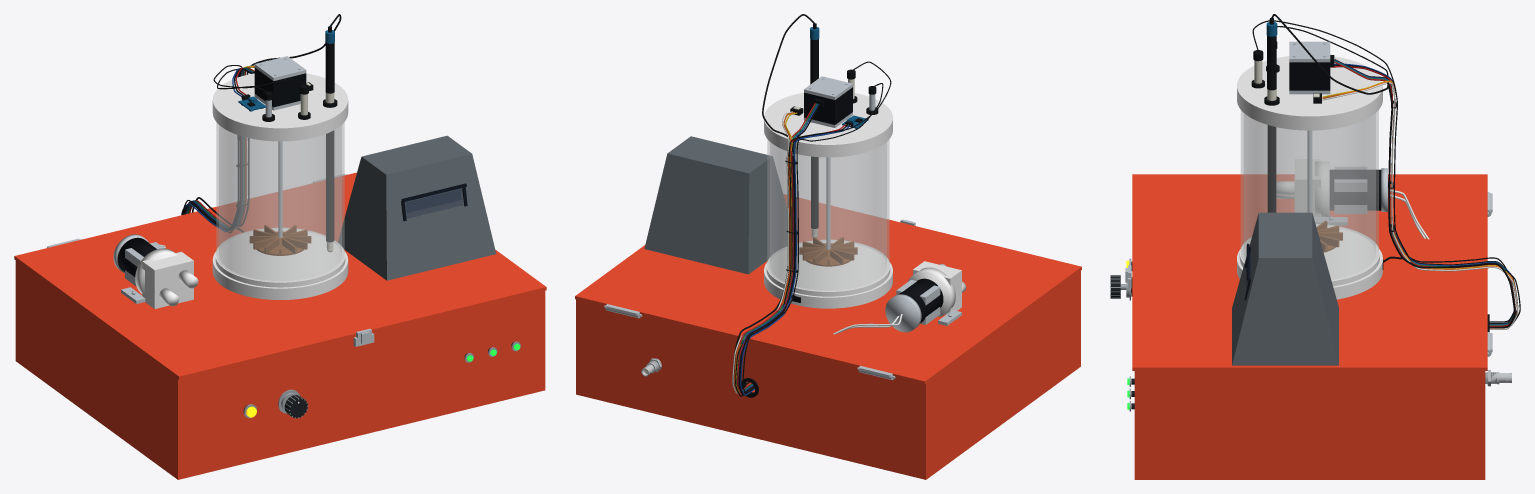
Rendered from nichka.glb.
The picture shows the model from 3 angles, left to right: view 1: azimuth 30°, elevation 25°; view 2: azimuth 150°, elevation 25°; view 3: azimuth 270°, elevation 25°; orthographic projection. The views are drawn at different scales.
Parts seen in each view (by area): view 1: Bloque 47 x 36.5 x 12.5 cm, NichKa_Lid, NichKa_Transparent_Chamber, LCD_Enclosure, NichKa_Top, NichKa_Base_Ring, WaterPump_Head, NichKa_Base, NichKa_NEMA17, Sensor_pH_Immersed_Body, LCD_Display, NichKa_NEMA17_Rear (+2 smaller); view 2: Bloque 47 x 36.5 x 12.5 cm, NichKa_Lid, NichKa_Transparent_Chamber, LCD_Enclosure, NichKa_Top, NichKa_Base_Ring, NichKa_Base, NichKa_NEMA17, WaterPump_Motor_EndCap, WaterPump_Diaphragm, WaterPump_Motor, NichKa_NEMA17_Rear (+7 smaller); view 3: NichKa_Lid, Bloque 47 x 36.5 x 12.5 cm, NichKa_Transparent_Chamber, LCD_Enclosure, NichKa_Top, NichKa_Base_Ring, WaterPump_Motor, Cable_pH, NichKa_NEMA17, WaterPump_Head, NichKa_Base, NichKa_NEMA17_Rear (+8 smaller).
Boxes of the visible parts, x1,y1,x2,y2 form: Bloque 47 x 36.5 x 12.5 cm: (15,259,545,479); NichKa_Lid: (14,172,546,379); NichKa_Transparent_Chamber: (216,122,344,281); LCD_Enclosure: (338,135,496,280); NichKa_Top: (212,73,348,141); NichKa_Base_Ring: (215,228,345,287); WaterPump_Head: (142,251,193,308); NichKa_Base: (212,252,348,299); NichKa_NEMA17: (254,68,306,107); Sensor_pH_Immersed_Body: (326,130,334,242); LCD_Display: (405,188,463,218); NichKa_NEMA17_Rear: (254,56,306,80); Bloque 47 x 36.5 x 12.5 cm: (576,269,1080,479); NichKa_Lid: (575,194,1081,384); NichKa_Transparent_Chamber: (767,139,889,291); LCD_Enclosure: (644,136,787,274); NichKa_Top: (764,92,892,157); NichKa_Base_Ring: (766,240,890,296); NichKa_Base: (764,263,892,308); NichKa_NEMA17: (804,87,852,124); WaterPump_Motor_EndCap: (885,294,921,332); WaterPump_Diaphragm: (908,267,955,316); WaterPump_Motor: (899,278,943,323); NichKa_NEMA17_Rear: (804,76,852,99); NichKa_Lid: (1132,174,1487,370); Bloque 47 x 36.5 x 12.5 cm: (1131,288,1485,479); NichKa_Transparent_Chamber: (1241,110,1378,280); LCD_Enclosure: (1232,212,1338,365); NichKa_Top: (1237,56,1382,130); NichKa_Base_Ring: (1239,224,1379,286); WaterPump_Motor: (1330,169,1381,210); Cable_pH: (1271,14,1515,328); NichKa_NEMA17: (1289,62,1330,90); WaterPump_Head: (1295,159,1320,217); NichKa_Base: (1237,249,1382,299); NichKa_NEMA17_Rear: (1289,41,1330,62).
Bounding box in the file's own units: 0.47 × 0.4434 × 0.4216.
